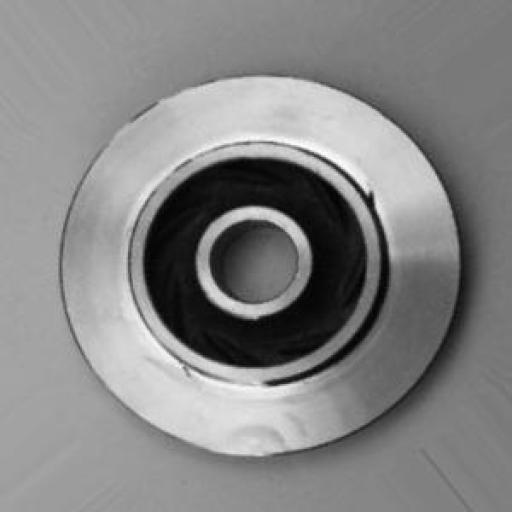defect: (344, 148, 401, 238)
